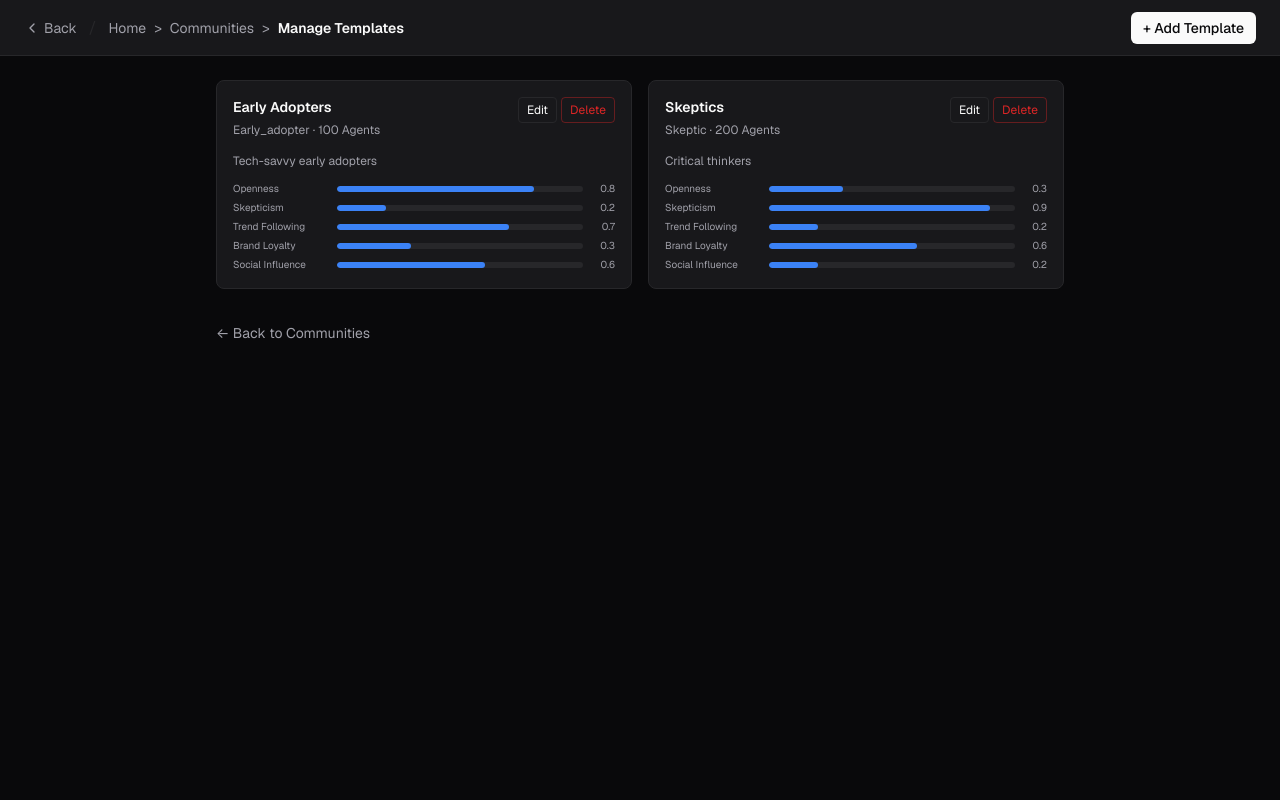
Scenario: CommunityManagePage (07_FRONTEND_SPEC) › Edit Template Form › clicking Edit shows Edit Template form pre-filled with template data
The width and height of the screenshot is (1280, 800).
Expected: the element with test id "template-card-tpl-1" is shown, [216,80,632,289]
Click the 1st button "Edit": point(538, 110) [518,97,557,123]
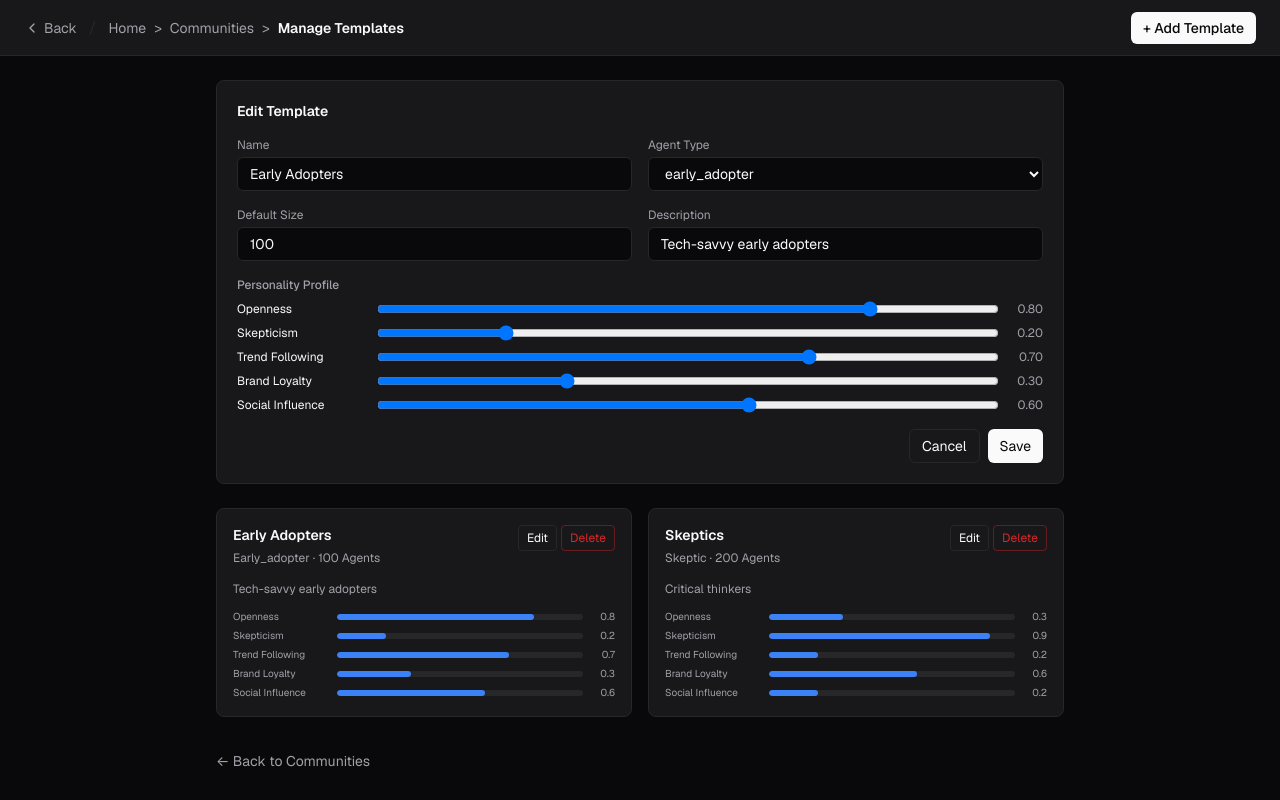
Result: the heading "Edit Template" is shown at [237,102,328,120]
Result: the field showing "Early Adopters" below "Name" is shown at [237,157,632,191]
